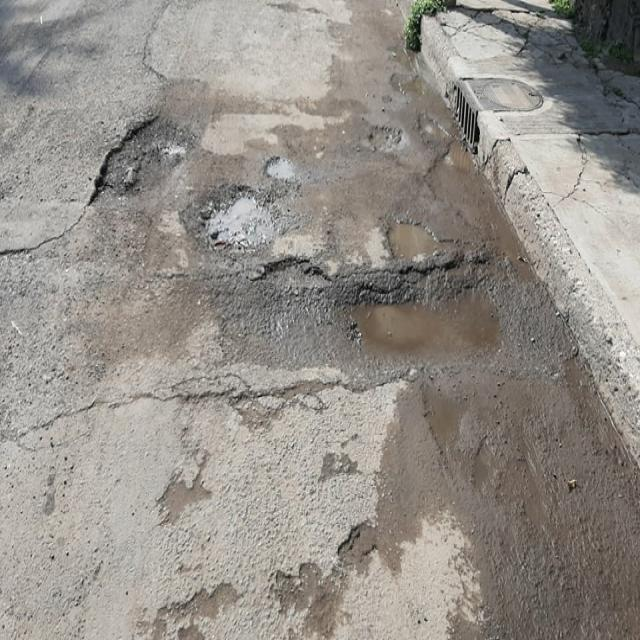Pothole: (213, 245, 512, 397), (187, 147, 303, 247), (83, 111, 192, 208), (378, 205, 445, 265), (358, 118, 408, 154)
